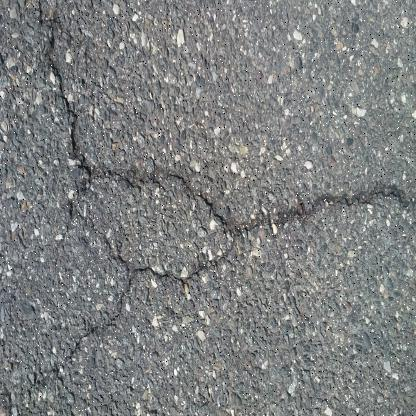Cracks: (35, 0, 416, 246), (23, 231, 243, 403)
